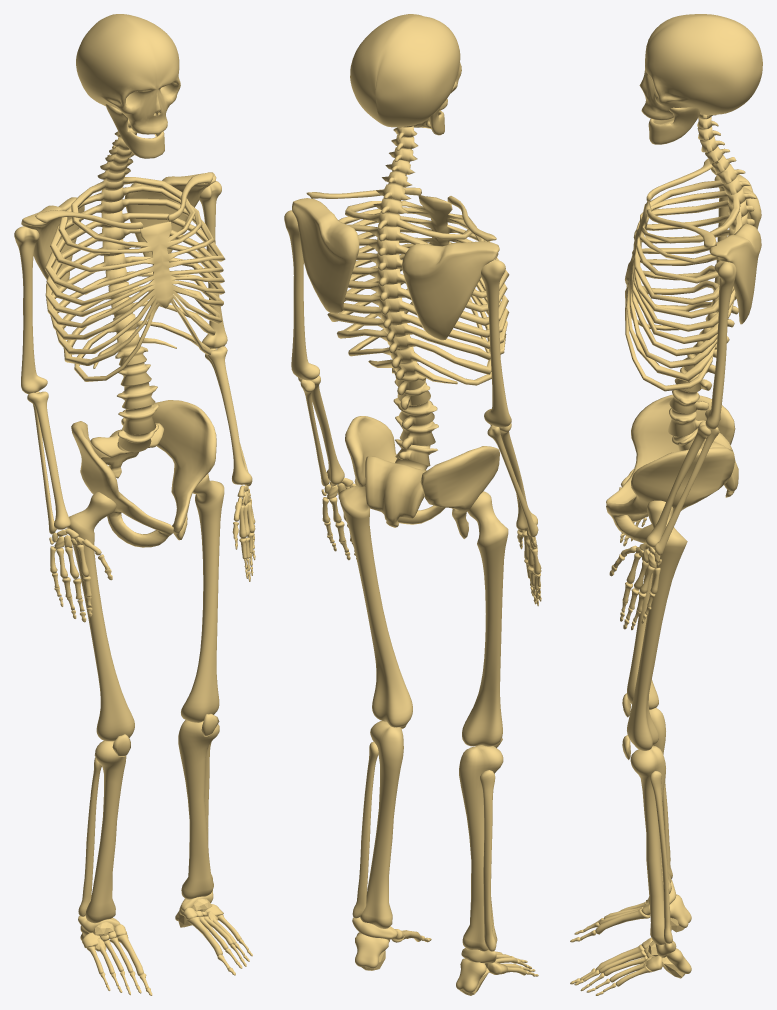
File: skelington.fbx
3 renders of one model, left to right at view 1: azimuth 30°, elevation 25°; view 2: azimuth 150°, elevation 25°; view 3: azimuth 270°, elevation 25°, orthographic. The views are drawn at different scales.
Parts seen in each view (by area): view 1: rib cage, thighs, head, hips, caff1, bicep, sholderblades, forarm1, hand, caff 2, hand.002, coller bone (+5 smaller); view 2: rib cage, thighs, sholderblades, head, caff1, hips, bicep, caff 2, tail bone, forarm1, forarm2, caff1.013 (+4 smaller); view 3: rib cage, head, hips, thighs, caff1, sholderblades, bicep, caff 2, forarm1, jaw, hand, coller bone (+5 smaller).
Boxes of the visible parts, box(x1,y1,x2,y2) form: rib cage: box(45, 119, 225, 452); thighs: box(67, 473, 224, 741); head: box(76, 14, 180, 134); hips: box(71, 400, 216, 547); caff1: box(85, 720, 219, 923); bicep: box(14, 181, 227, 393); sholderblades: box(21, 172, 216, 287); forarm1: box(27, 346, 252, 529); hand: box(49, 485, 255, 611); caff 2: box(78, 742, 212, 916); hand.002: box(52, 489, 255, 622); coller bone: box(35, 172, 213, 229); rib cage: box(327, 125, 509, 470); thighs: box(339, 486, 508, 746); sholderblades: box(292, 198, 499, 340); head: box(350, 14, 461, 127); caff1: box(360, 721, 503, 951); hips: box(345, 416, 499, 538); bicep: box(284, 210, 511, 427); caff 2: box(352, 742, 496, 951); tail bone: box(365, 456, 426, 527); forarm1: box(298, 375, 537, 530); forarm2: box(300, 379, 538, 537); caff1.013: box(355, 933, 486, 993); rib cage: box(625, 114, 756, 451); head: box(639, 14, 762, 120); hips: box(606, 394, 735, 542); thighs: box(627, 500, 687, 750); caff1: box(630, 707, 671, 944); sholderblades: box(709, 167, 761, 324); bicep: box(705, 176, 736, 429); caff 2: box(650, 771, 672, 943); forarm1: box(645, 331, 711, 547); jaw: box(648, 107, 700, 144); hand: box(609, 469, 661, 622); coller bone: box(646, 158, 716, 248).
Bounding box in the file's own units: 97.22 × 416 × 76.78.
